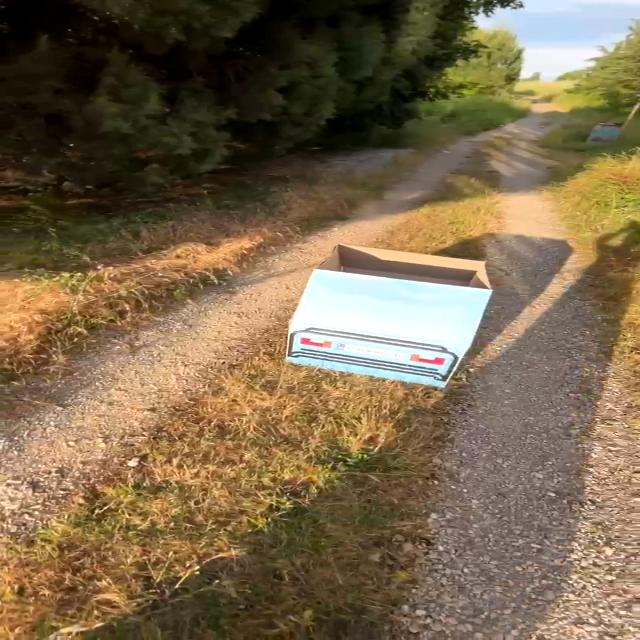blue_car: (245, 217, 502, 424)
